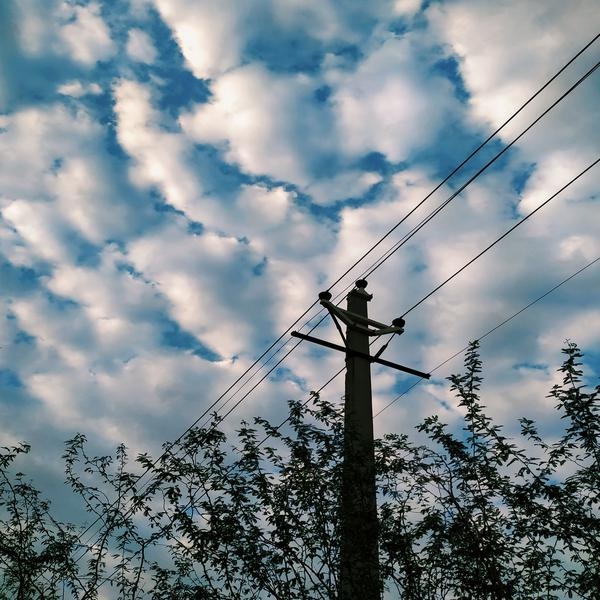utility_pole: (287, 269, 436, 417)
